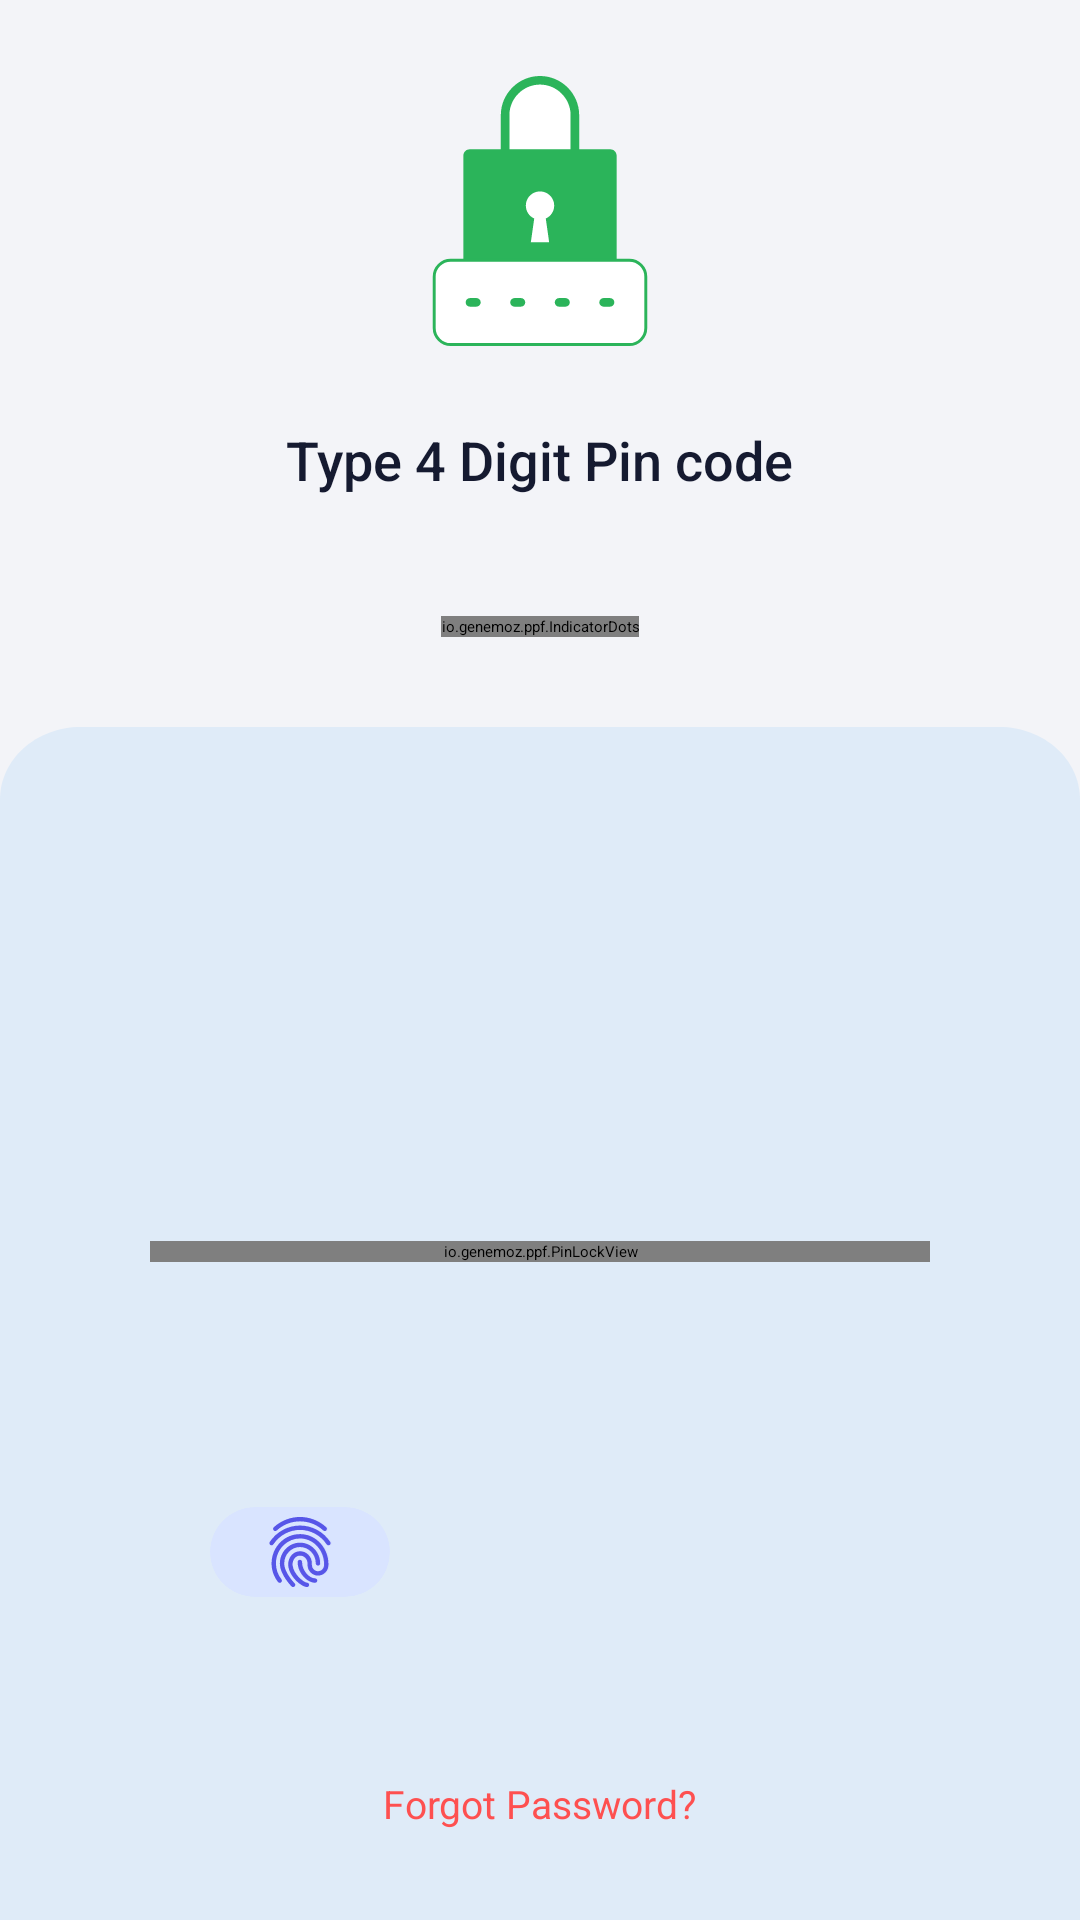

Icon click points for this 1080 × 1920 phone screenshot, format (x=x, y=y):
finger: (x=300, y=1552)
lock: (x=540, y=211)
